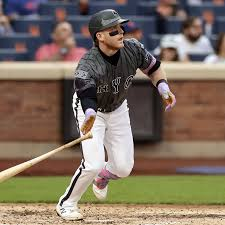baseball bat: (1, 130, 96, 183)
